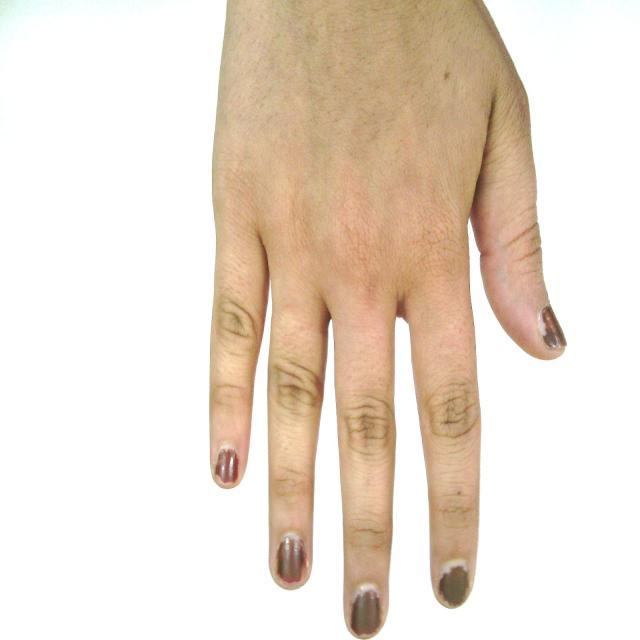Fingernail: (351, 584, 381, 636), (276, 533, 305, 585), (439, 559, 469, 608), (539, 304, 567, 348), (215, 443, 239, 486)
